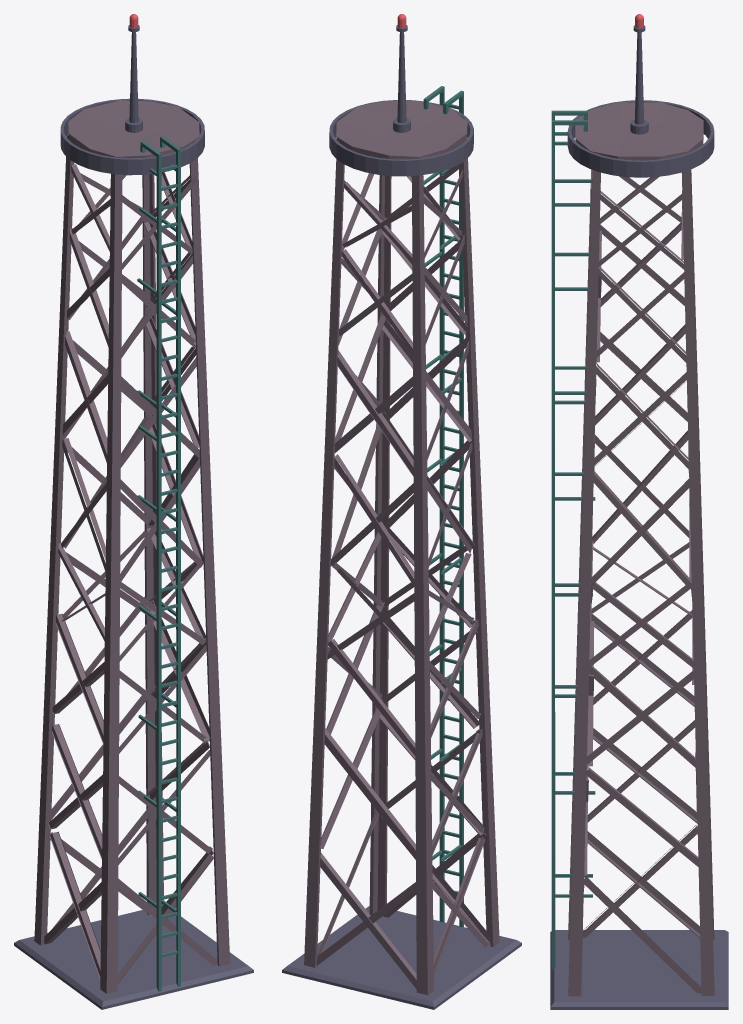
The model's file is tower.fbx.
The picture shows the model from 3 angles, left to right: view 1: azimuth 30°, elevation 25°; view 2: azimuth 150°, elevation 25°; view 3: azimuth 270°, elevation 25°; orthographic projection.
Parts seen in each view (by area): view 1: Tower.001; view 2: Tower.001; view 3: Tower.001.
Part boxes in pixels (x1,y1,x2,y2): Tower.001: (14, 14, 253, 1009); Tower.001: (282, 14, 521, 1009); Tower.001: (550, 14, 728, 1009).
Bounding box in the file's own units: 1957 × 11617 × 1957.
